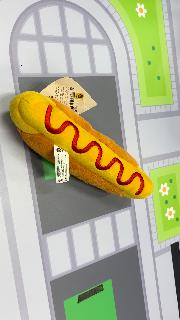hotdog: (9, 90, 154, 200)
